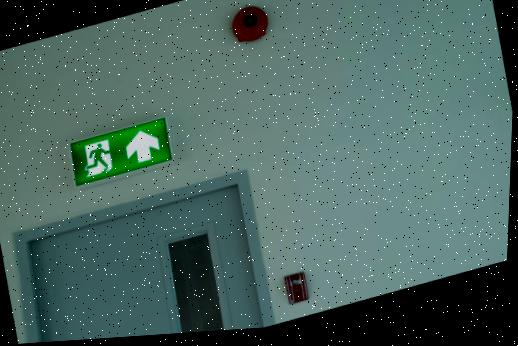emergency_exit: (69, 116, 173, 187)
